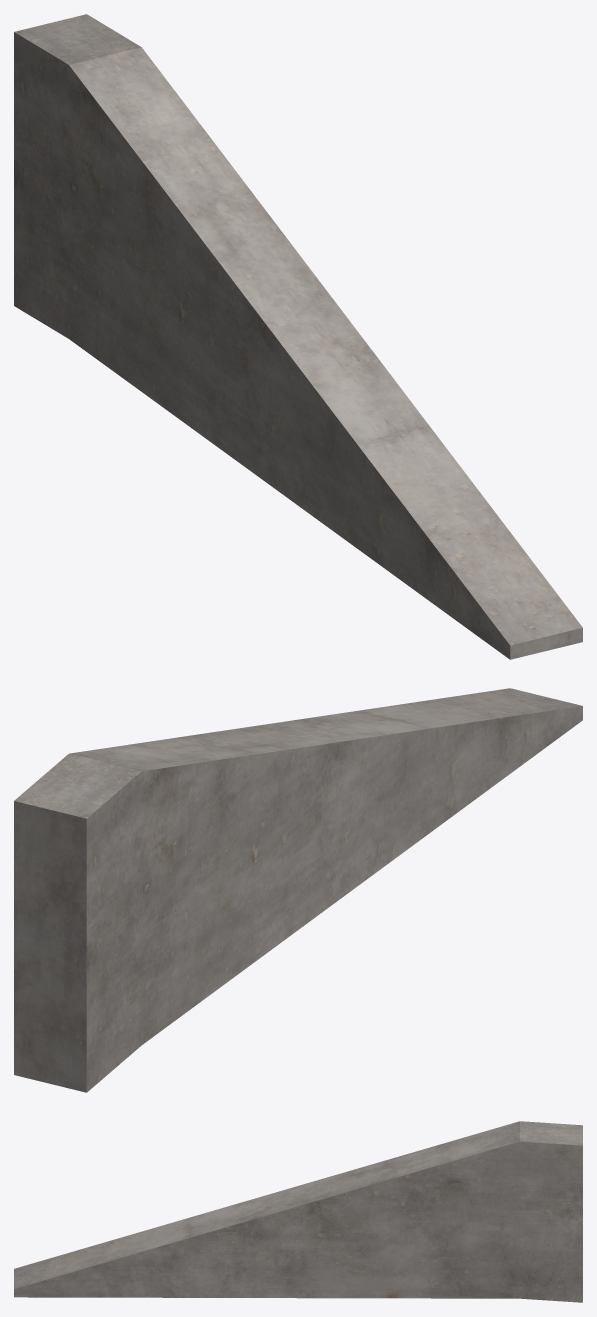
File: Road.50_retainingWall_L.glb
3 renders of one model, top to bottom at view 1: azimuth 30°, elevation 25°; view 2: azimuth 150°, elevation 25°; view 3: azimuth 270°, elevation 25°, orthographic. The views are drawn at different scales.
Parts seen in each view (by area): view 1: Field_Retaining_Wall.001; view 2: Field_Retaining_Wall.001; view 3: Field_Retaining_Wall.001.
Boxes of the visible parts, x1,y1,x2,y2 form: Field_Retaining_Wall.001: (14, 14, 582, 659); Field_Retaining_Wall.001: (14, 688, 582, 1092); Field_Retaining_Wall.001: (14, 1121, 582, 1302).
Size of the model in its own units: 0.7649 by 2.82 by 9.03.
Materials: 1 (1 with a texture image).
